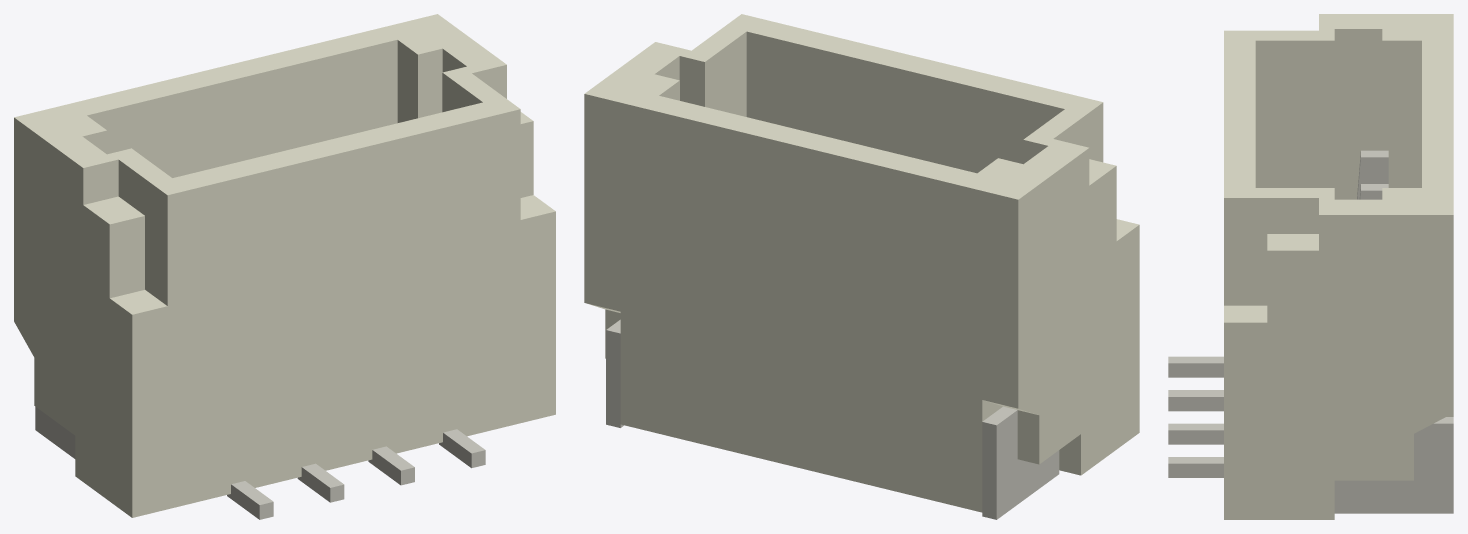
File: JST_SH_BM04B-SRSS-TB_1x04-1MP_P1.00mm_Vertical.glb
3 renders of one model, left to right at view 1: azimuth 30°, elevation 25°; view 2: azimuth 150°, elevation 25°; view 3: azimuth 270°, elevation 25°, orthographic. The views are drawn at different scales.
Parts seen in each view (by area): view 1: =>[0:1:1:3]; view 2: =>[0:1:1:3]; view 3: =>[0:1:1:3].
Boxes of the visible parts, x1,y1,x2,y2 form: =>[0:1:1:3]: (14, 14, 555, 519); =>[0:1:1:3]: (584, 14, 1139, 519); =>[0:1:1:3]: (1168, 14, 1453, 519).
Bounding box in the file's own units: 0.006 × 0.00432 × 0.0036.
